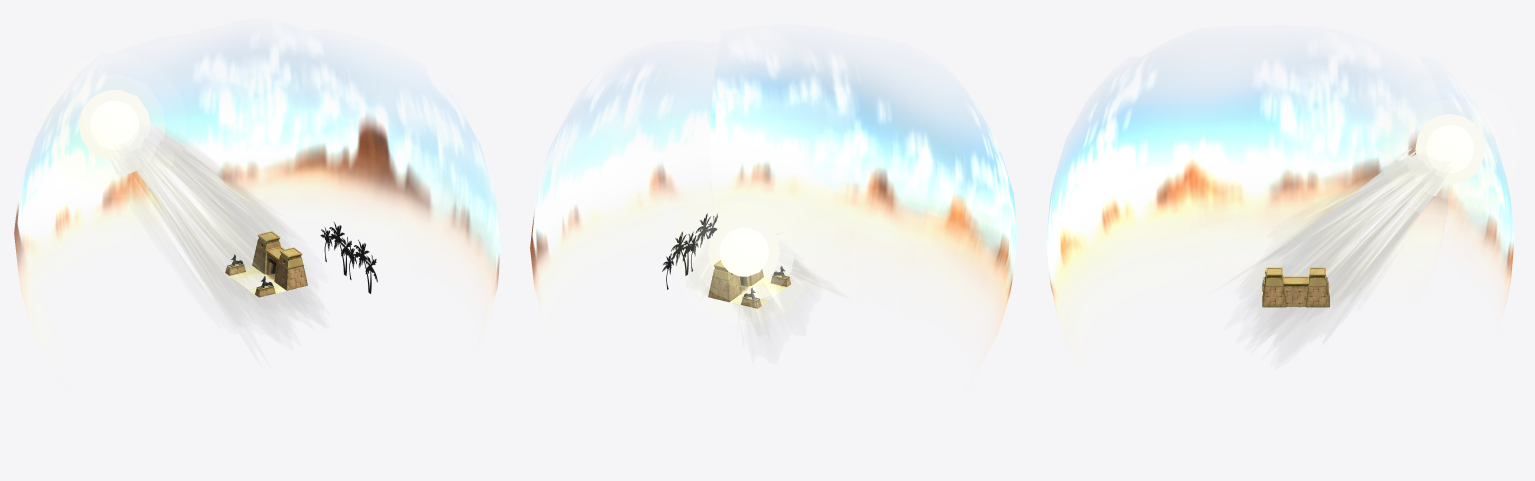
The model's file is props.glb.
The picture shows the model from 3 angles, left to right: view 1: azimuth 30°, elevation 25°; view 2: azimuth 150°, elevation 25°; view 3: azimuth 270°, elevation 25°; orthographic projection. The views are drawn at different scales.
Visible parts, largest first — view 1: Sky, light_light_0, Sun002_2_0, Enter_Enter_0, Sun_Sun_0, Sun001_1_0, Plane001, Sand, egyptian_jackal_statue_Egyptian Jackal statue_0; view 2: Sky, Sun002_2_0, Sun001_1_0, Sun_Sun_0, Enter_Enter_0, light_light_0, Plane001, Sand, egyptian_jackal_statue_Egyptian Jackal statue_0; view 3: Sky, light_light_0, Sun002_2_0, Enter_Enter_0, Sun_Sun_0, Sun001_1_0.
Part boxes in pixels (x1,y1,x2,y2): Sky: (14,43,501,331); light_light_0: (131,137,306,317); Sun002_2_0: (65,75,164,174); Enter_Enter_0: (252,231,307,290); Sun_Sun_0: (90,101,139,149); Sun001_1_0: (79,90,149,160); Plane001: (320,222,377,293); Sand: (225,266,294,297); egyptian_jackal_statue_Egyptian Jackal statue_0: (225,254,275,297); Sky: (530,58,1017,337); Sun002_2_0: (694,202,793,301); Sun001_1_0: (709,217,779,286); Sun_Sun_0: (719,227,768,276); Enter_Enter_0: (708,260,763,302); light_light_0: (700,261,820,334); Plane001: (662,213,717,289); Sand: (714,277,791,308); egyptian_jackal_statue_Egyptian Jackal statue_0: (741,266,790,308); Sky: (1046,58,1514,335); light_light_0: (1259,162,1437,330); Sun002_2_0: (1401,100,1498,198); Enter_Enter_0: (1262,267,1329,307); Sun_Sun_0: (1426,124,1473,173); Sun001_1_0: (1416,114,1484,183).
Bounding box in the file's own units: 72.99 × 59.77 × 73.94.
10 materials, 6 textured.
